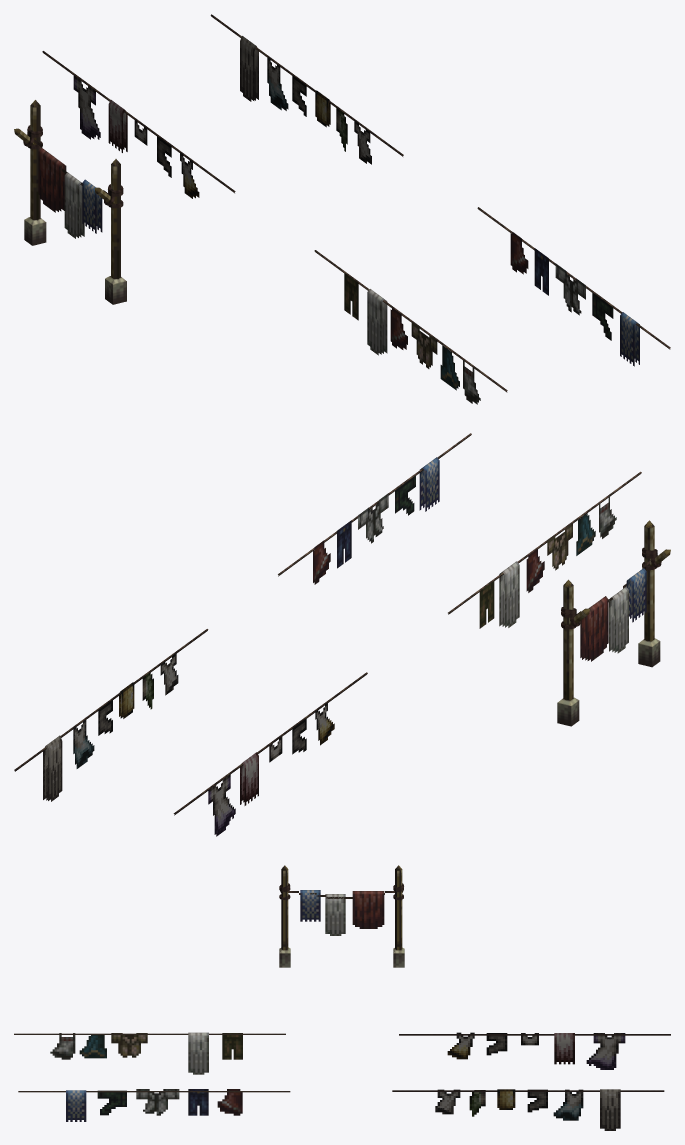
Rendered from EnvObjMD_Laundry_A_set.FBX.
3 renders of one model, top to bottom at view 1: azimuth 30°, elevation 25°; view 2: azimuth 150°, elevation 25°; view 3: azimuth 270°, elevation 25°, orthographic. The views are drawn at different scales.
Visible parts, largest first — view 1: EnvObjMD_Laundry_A_set, EnvObjMD_Laundry_A_Spline_B, EnvObjMD_Laundry_B_Spline_B, EnvObjMD_Laundry_A_Spline_A, EnvObjMD_Laundry_B_Spline_A; view 2: EnvObjMD_Laundry_A_set, EnvObjMD_Laundry_A_Spline_B, EnvObjMD_Laundry_B_Spline_B, EnvObjMD_Laundry_A_Spline_A, EnvObjMD_Laundry_B_Spline_A; view 3: EnvObjMD_Laundry_A_set, EnvObjMD_Laundry_A_Spline_B, EnvObjMD_Laundry_B_Spline_B, EnvObjMD_Laundry_A_Spline_A, EnvObjMD_Laundry_B_Spline_A.
Boxes of the visible parts, x1=… form: EnvObjMD_Laundry_A_set: x1=14, y1=100, x2=126, y2=304; EnvObjMD_Laundry_A_Spline_B: x1=314, y1=250, x2=507, y2=404; EnvObjMD_Laundry_B_Spline_B: x1=210, y1=14, x2=403, y2=164; EnvObjMD_Laundry_A_Spline_A: x1=477, y1=207, x2=670, y2=366; EnvObjMD_Laundry_B_Spline_A: x1=42, y1=51, x2=235, y2=198; EnvObjMD_Laundry_A_set: x1=557, y1=520, x2=670, y2=726; EnvObjMD_Laundry_A_Spline_B: x1=448, y1=471, x2=641, y2=628; EnvObjMD_Laundry_B_Spline_B: x1=14, y1=629, x2=208, y2=801; EnvObjMD_Laundry_A_Spline_A: x1=278, y1=433, x2=471, y2=584; EnvObjMD_Laundry_B_Spline_A: x1=173, y1=672, x2=367, y2=836; EnvObjMD_Laundry_A_set: x1=279, y1=865, x2=404, y2=967; EnvObjMD_Laundry_A_Spline_B: x1=14, y1=1032, x2=285, y2=1074; EnvObjMD_Laundry_B_Spline_B: x1=392, y1=1089, x2=664, y2=1130; EnvObjMD_Laundry_A_Spline_A: x1=18, y1=1089, x2=290, y2=1121; EnvObjMD_Laundry_B_Spline_A: x1=399, y1=1032, x2=670, y2=1069.
Size of the model in its own units: 703 by 340 by 1450.
3 materials, 3 textured.
